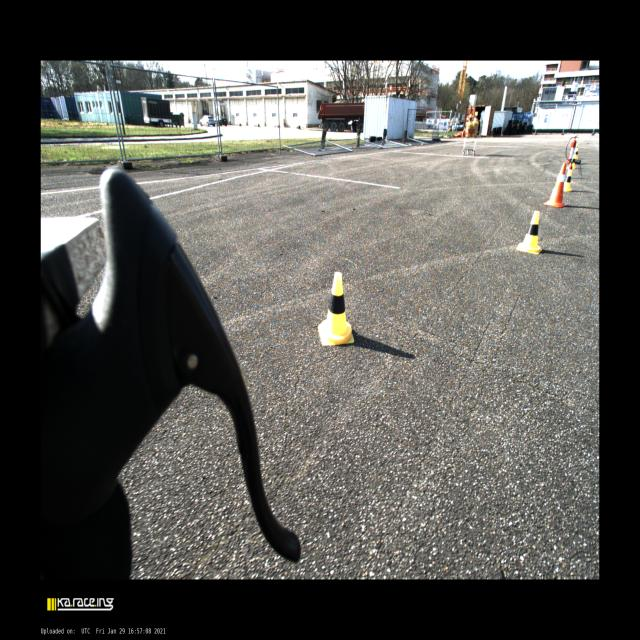large_orange_cone: (544, 162, 566, 207)
orange_cone: (463, 127, 465, 132)
yellow_cone: (318, 272, 354, 346), (516, 211, 542, 254), (564, 170, 572, 192), (570, 154, 576, 169), (573, 143, 578, 159), (473, 112, 478, 121), (468, 114, 472, 125)
